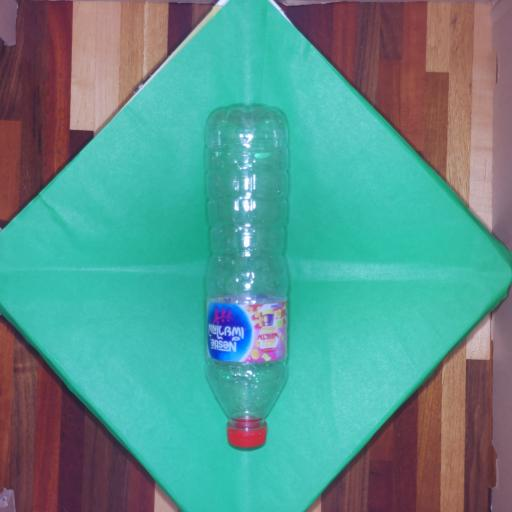bottle: (197, 92, 296, 458)
